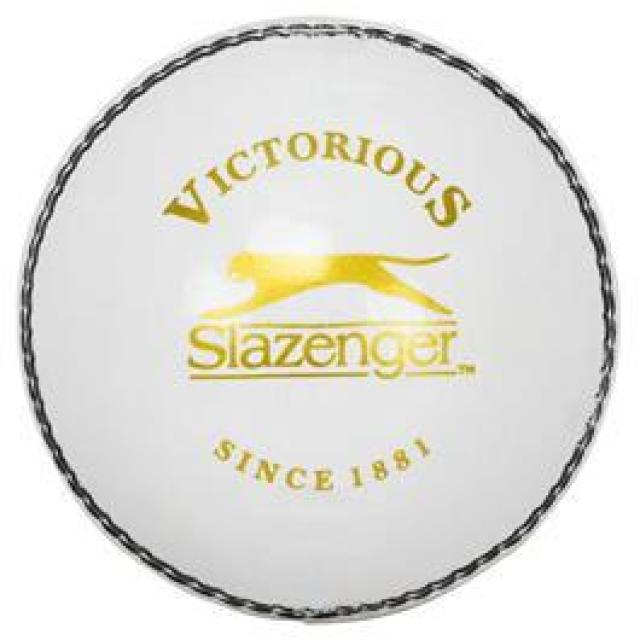ball: (22, 14, 638, 640)
